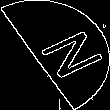N_SW: (16, 25, 94, 85)
